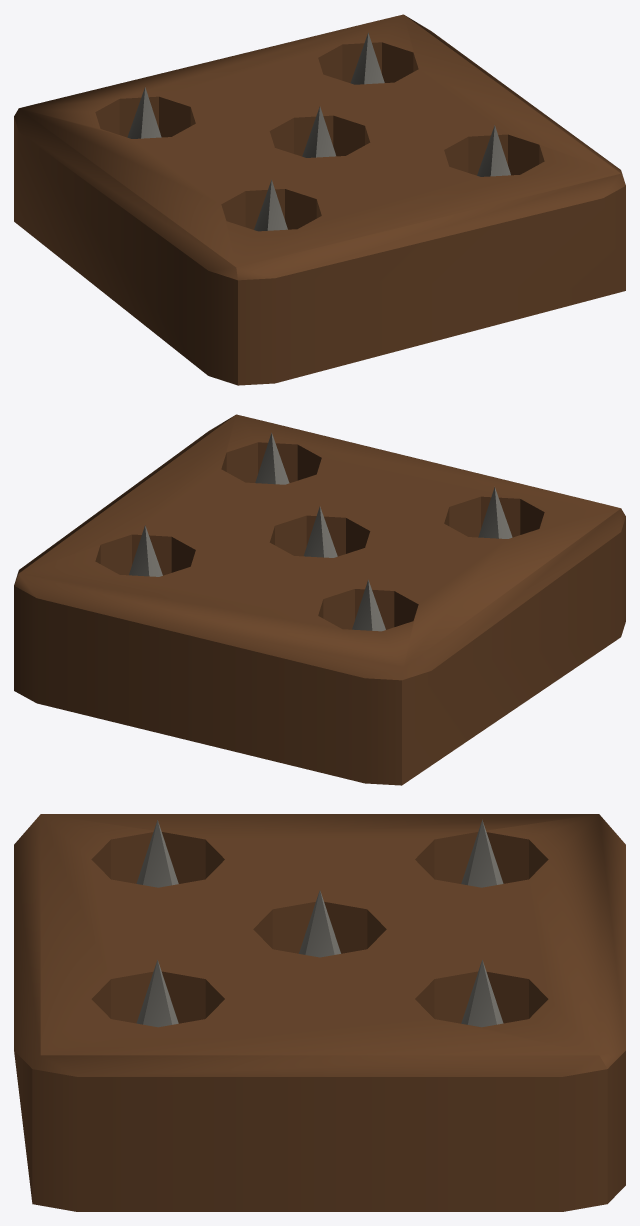
File: cc0-hazard-spike-trap-lod1.glb
3 renders of one model, top to bottom at view 1: azimuth 30°, elevation 25°; view 2: azimuth 150°, elevation 25°; view 3: azimuth 270°, elevation 25°, orthographic. The views are drawn at different scales.
Visible parts, largest first — view 1: part_1; view 2: part_1; view 3: part_1.
Part boxes in pixels (x1,y1,x2,y2): part_1: (14,14,625,385); part_1: (14,414,625,785); part_1: (14,814,625,1211).
Size of the model in its own units: 2 by 0.6968 by 2.
